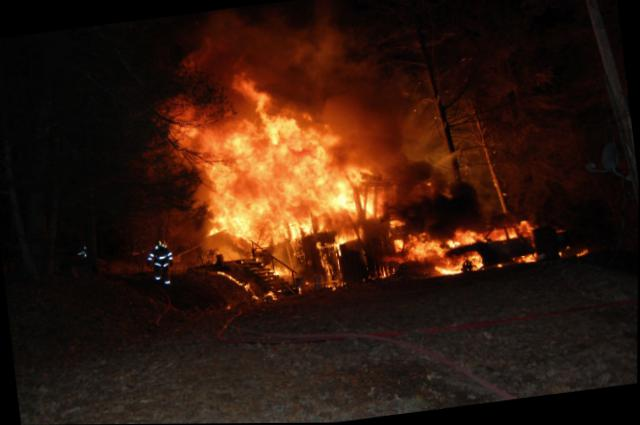fire: (172, 39, 543, 306)
